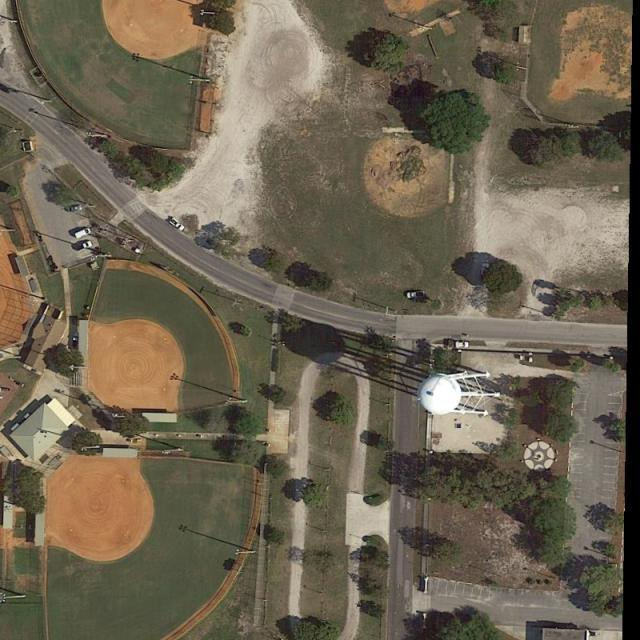vehicle: (168, 216, 187, 233), (72, 225, 93, 240), (75, 239, 94, 253), (406, 290, 426, 300), (67, 204, 82, 214), (454, 341, 470, 350), (1, 82, 12, 94), (72, 333, 80, 347)
